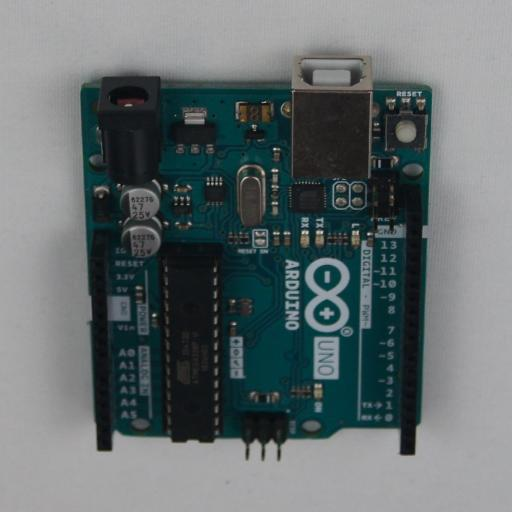Arduino Uno -Green-: (80, 58, 432, 460)
